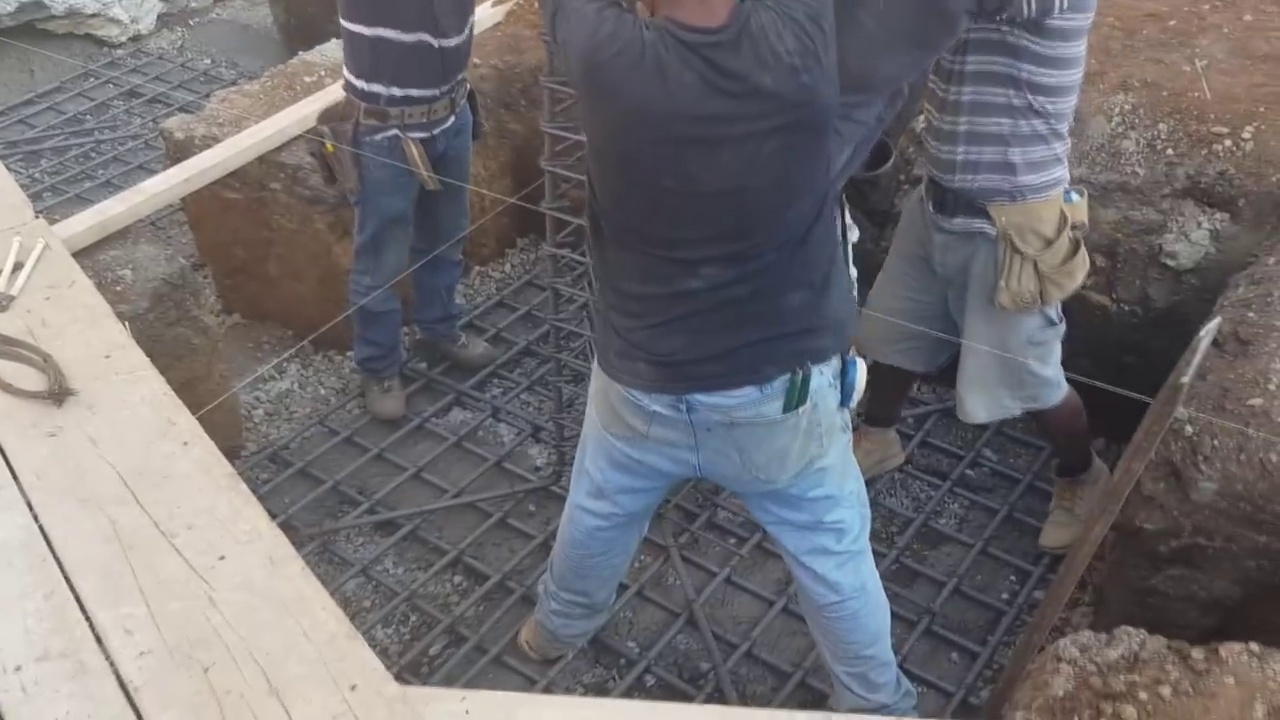person: (513, 0, 987, 719), (854, 0, 1118, 555), (333, 0, 499, 441)
